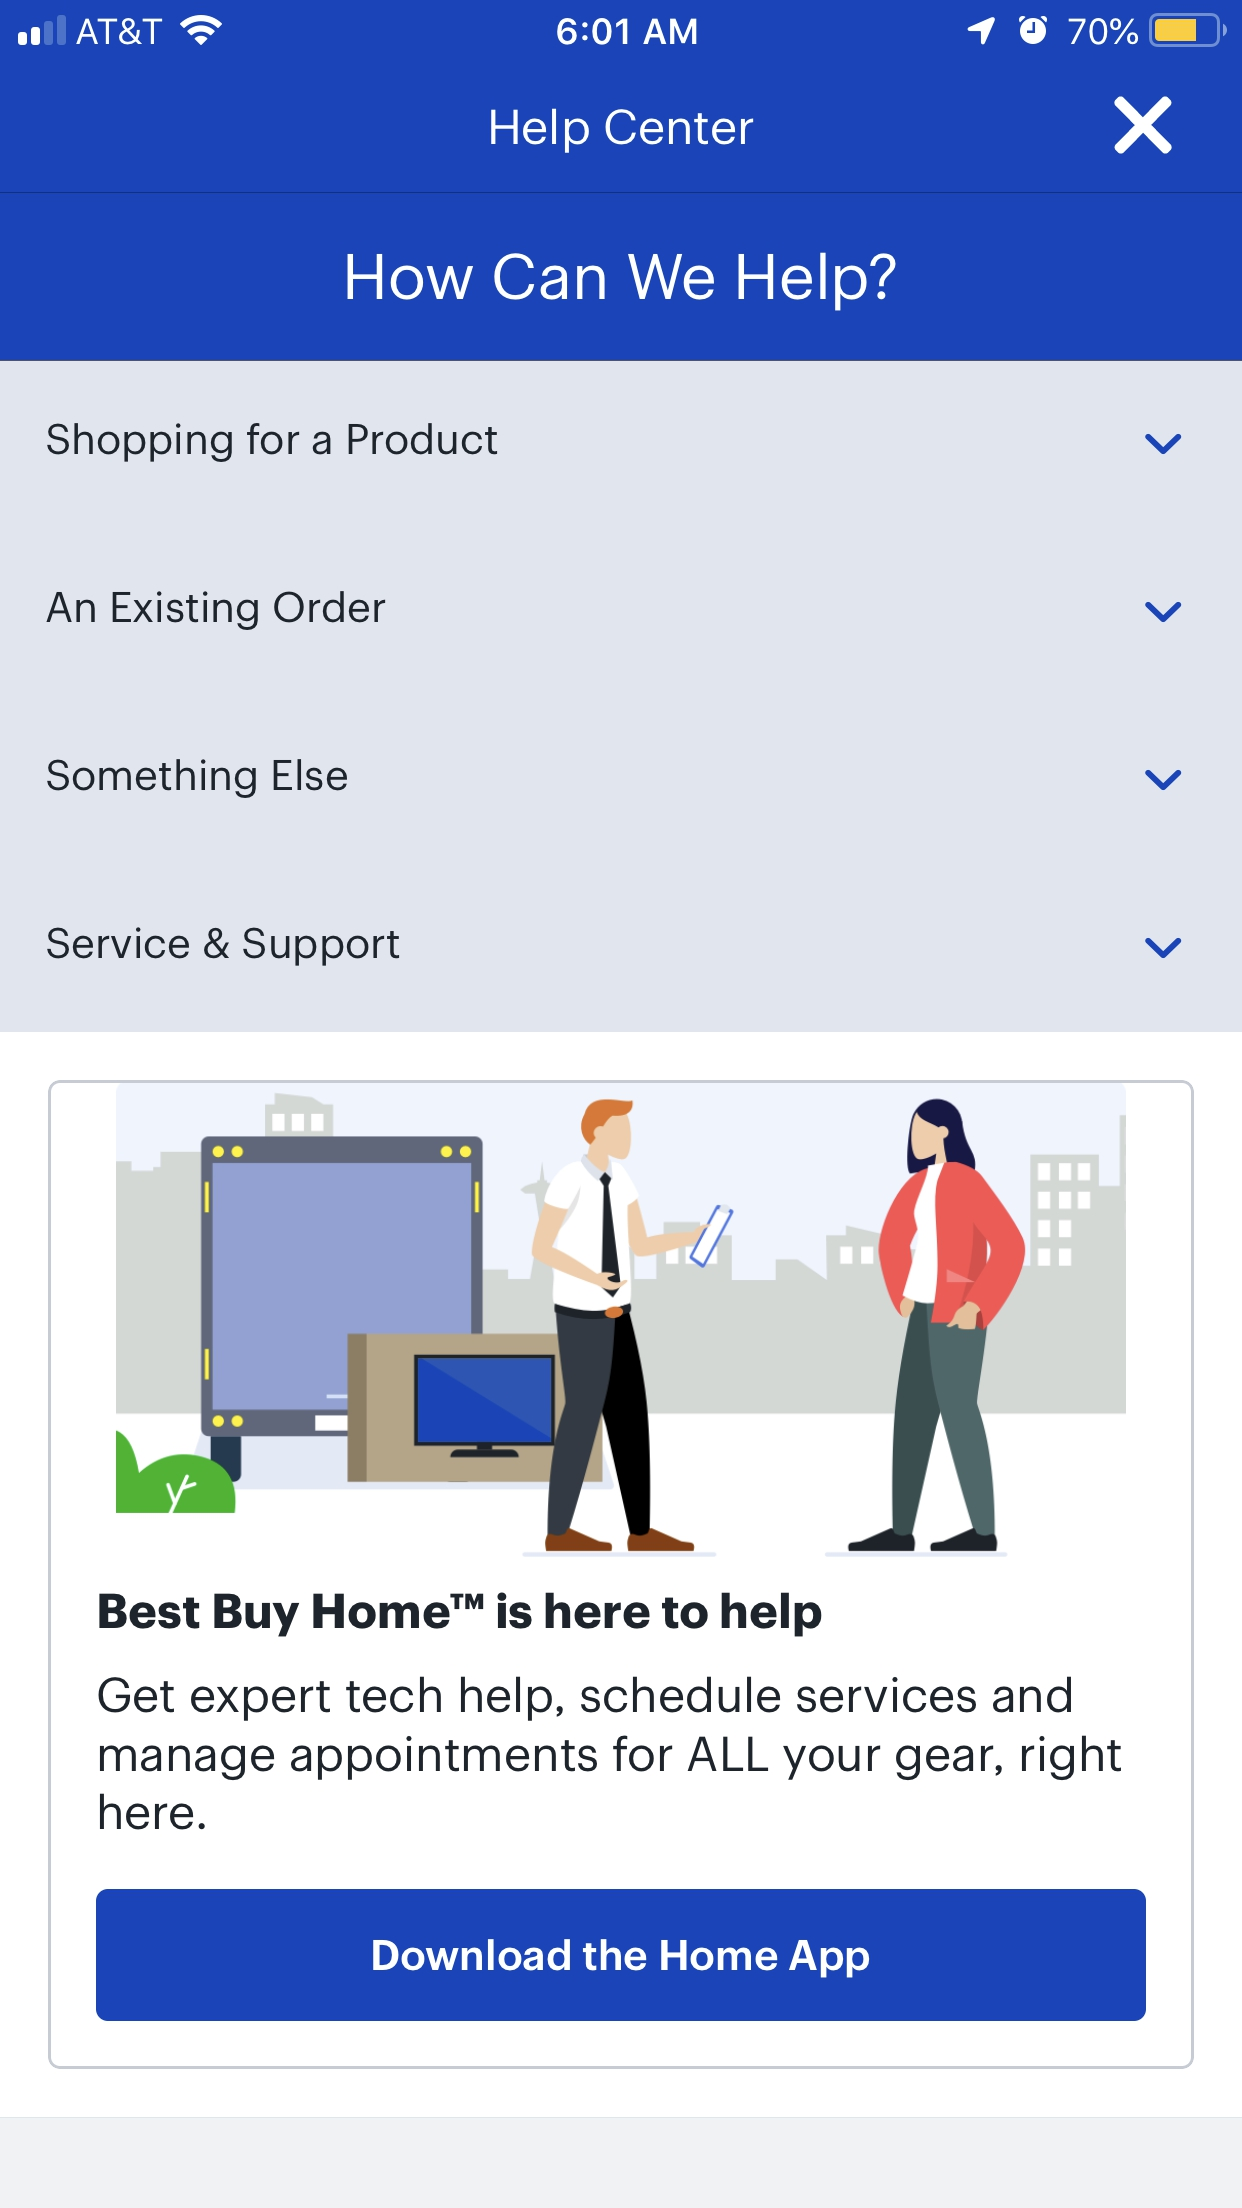Icon: (1113, 96, 1174, 156), (1143, 601, 1181, 623), (1145, 434, 1181, 455), (1145, 770, 1181, 792), (1145, 937, 1181, 958)
Image: (115, 1084, 1127, 1557)
Text: (99, 1676, 1122, 1830), (100, 1591, 823, 1638), (347, 252, 898, 312), (47, 423, 497, 463), (49, 927, 400, 968), (45, 591, 387, 631), (47, 758, 347, 799), (490, 109, 754, 155)
TextButton: (97, 1890, 1146, 2021)
UpperTaskBar: (2, 2, 1242, 49)
